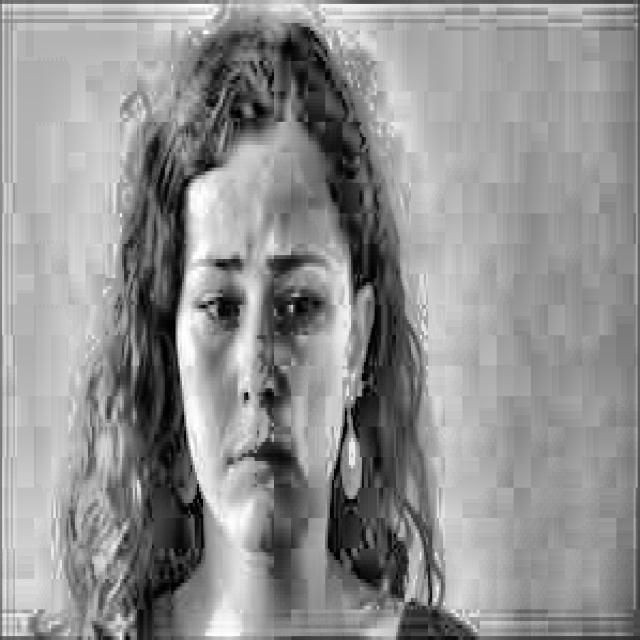sad: (134, 4, 396, 576)
